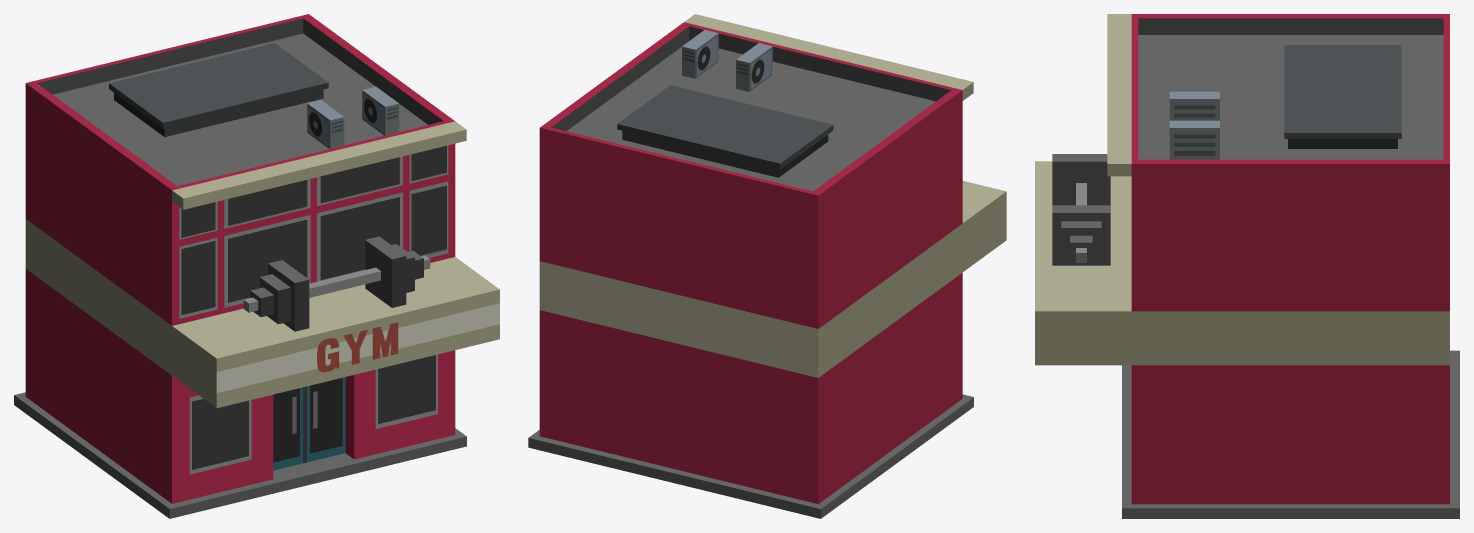
File: gym.obj
The picture shows the model from 3 angles, left to right: view 1: azimuth 30°, elevation 25°; view 2: azimuth 150°, elevation 25°; view 3: azimuth 270°, elevation 25°; orthographic projection. The views are drawn at different scales.
Parts seen in each view (by area): view 1: ST_Building_Gym_Untitled.008; view 2: ST_Building_Gym_Untitled.008; view 3: ST_Building_Gym_Untitled.008.
Boxes of the visible parts, box(x1,y1,x2,y2) form: ST_Building_Gym_Untitled.008: box(14, 14, 499, 518); ST_Building_Gym_Untitled.008: box(528, 14, 1006, 518); ST_Building_Gym_Untitled.008: box(1035, 14, 1459, 518).
Bounding box in the file's own units: 10.51 × 11.42 × 11.98.
1 material, 1 textured.
